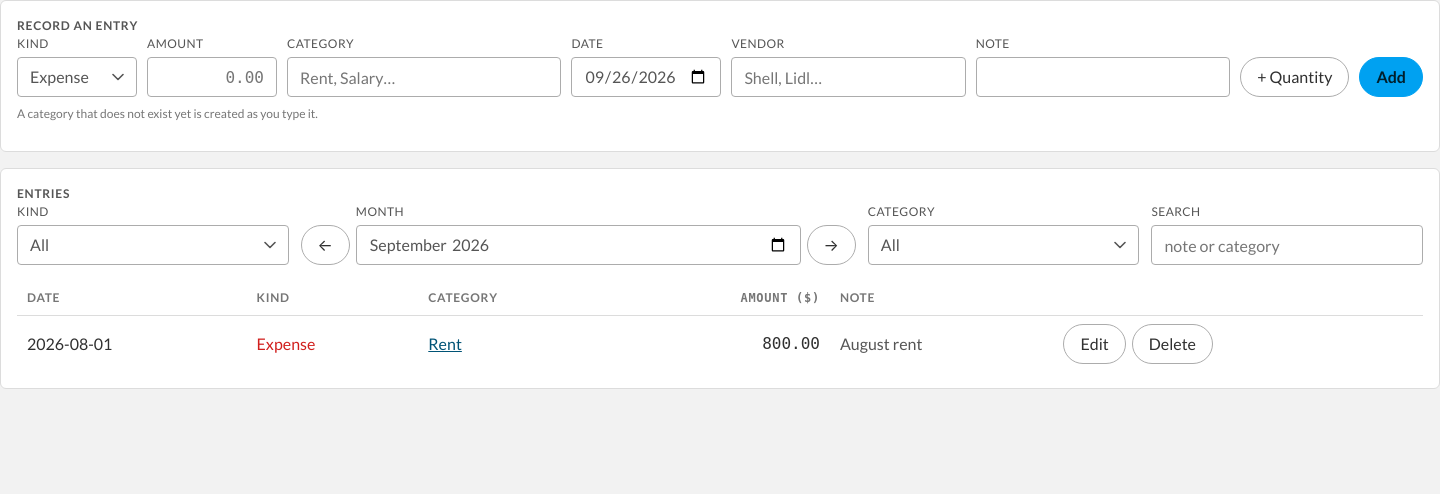
it: editing an entry › refuses an invalid amount before it reaches the server
The image size is (1440, 494).
Check: the table named "Entries" is shown, box [17, 281, 1423, 372]
Click the button with aria-label "Edit entry" at (1095, 344), box [1063, 324, 1126, 364]
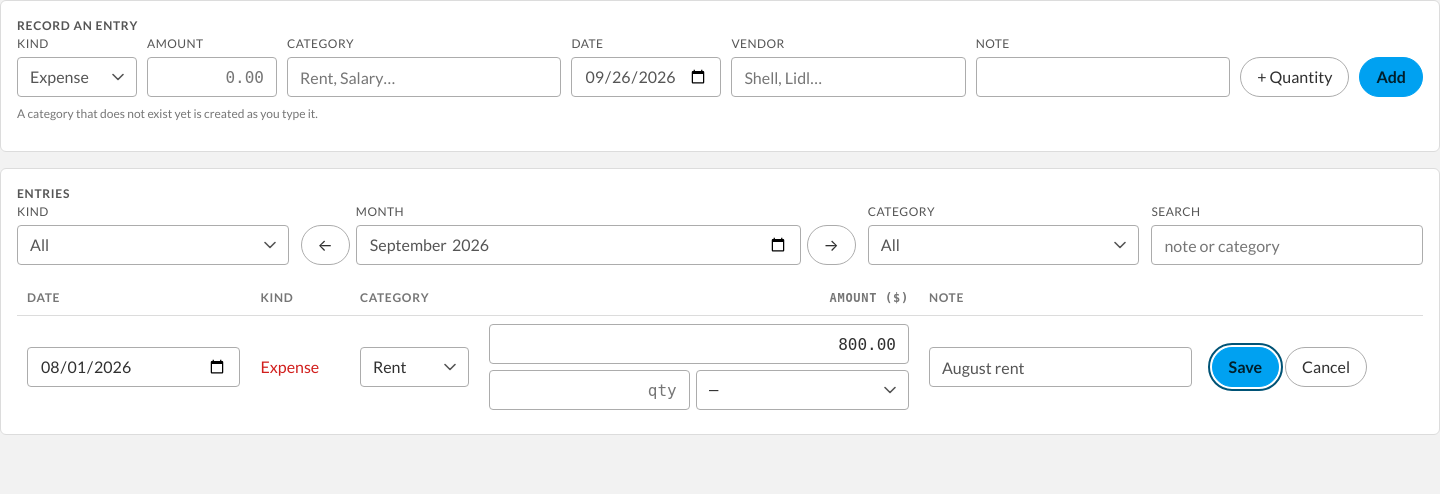
Replace the text in the field named "Edit amount" with "0" at (699, 344), box [489, 324, 909, 364]
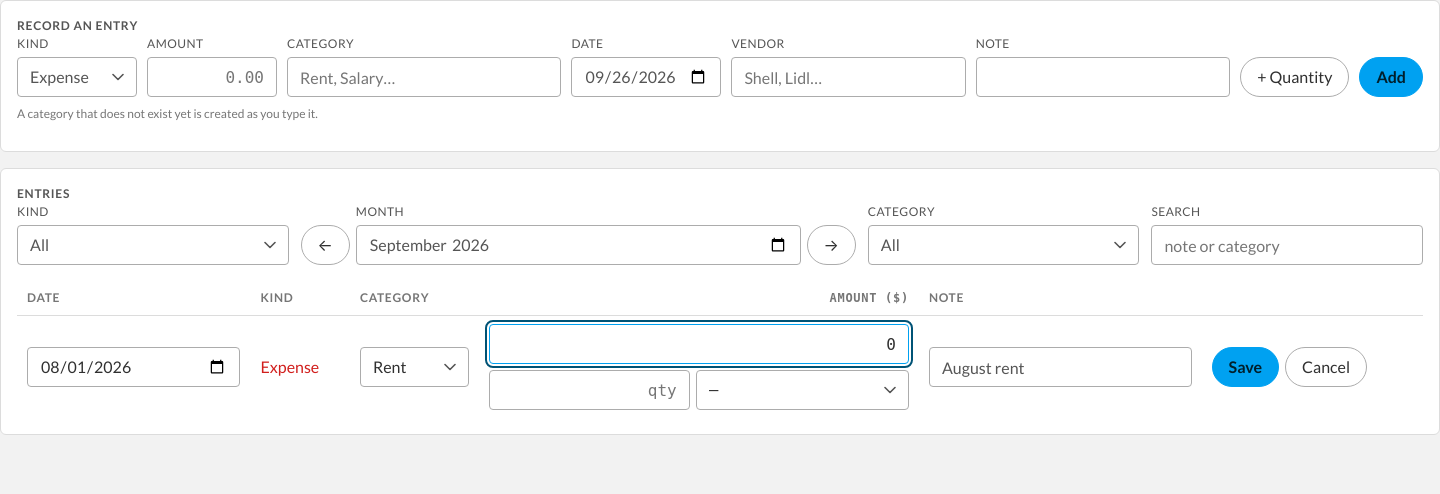
Click the button "Save" at (1245, 367), box [1212, 347, 1279, 387]
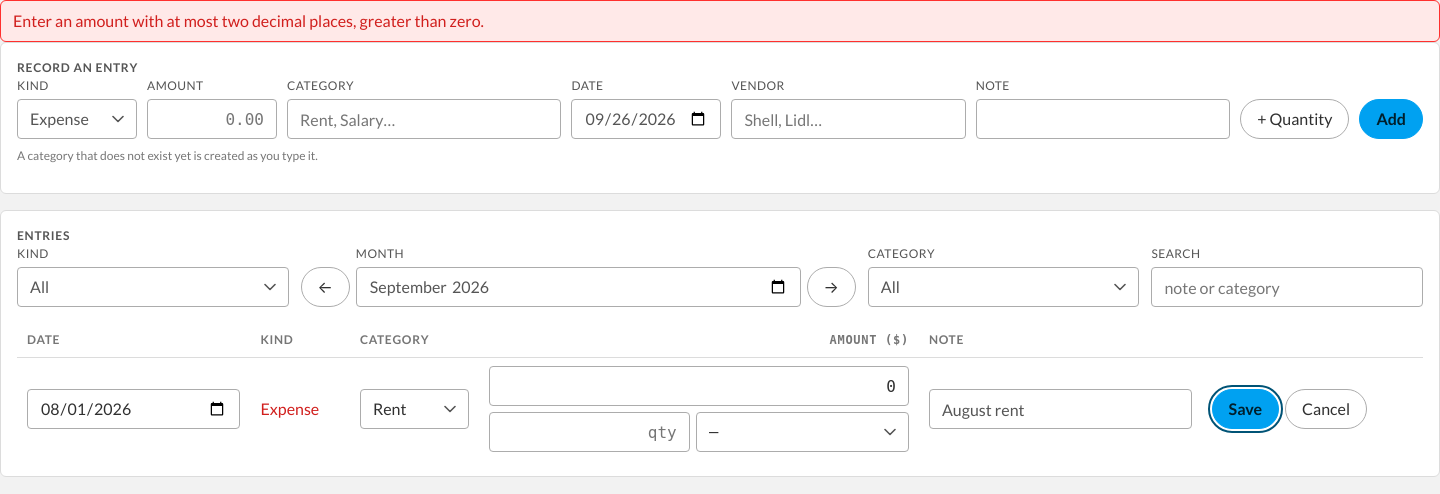
Check: the message shows "greater than zero", box [13, 11, 484, 30]
